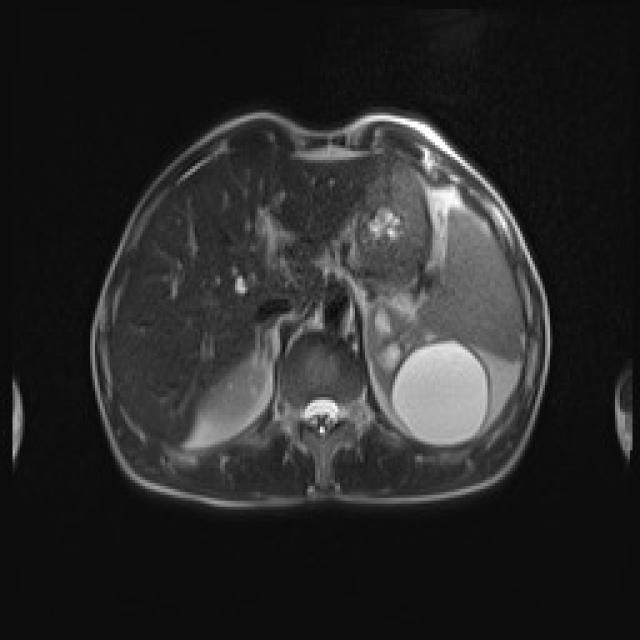sag: (203, 365, 264, 428)
sol: (369, 304, 490, 445)
